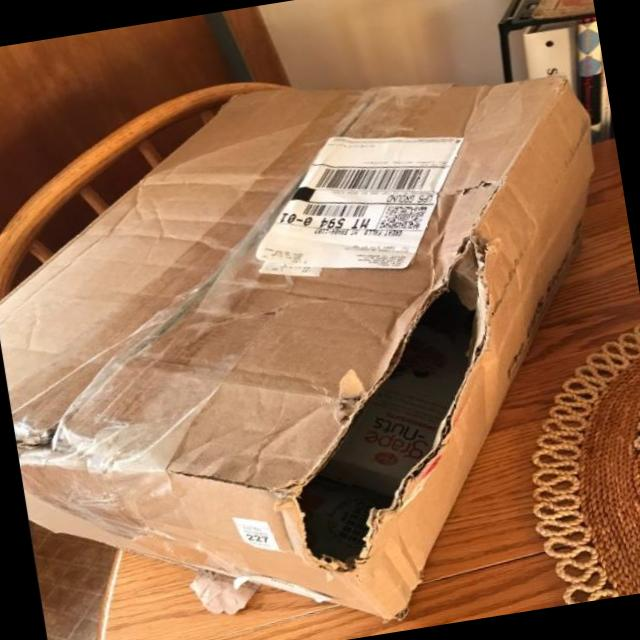box: (1, 73, 595, 624)
tear: (291, 228, 495, 572)
